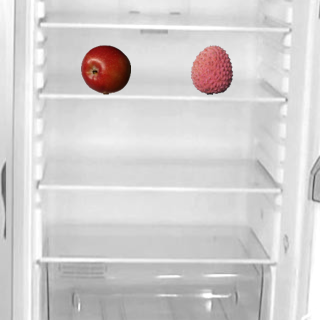Apple Braeburn: (80, 44, 130, 94)
Lychee: (186, 44, 236, 94)
